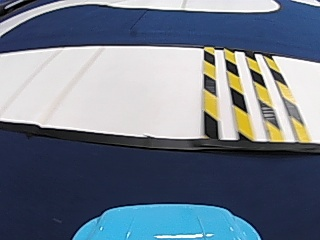bump: (195, 51, 300, 138)
